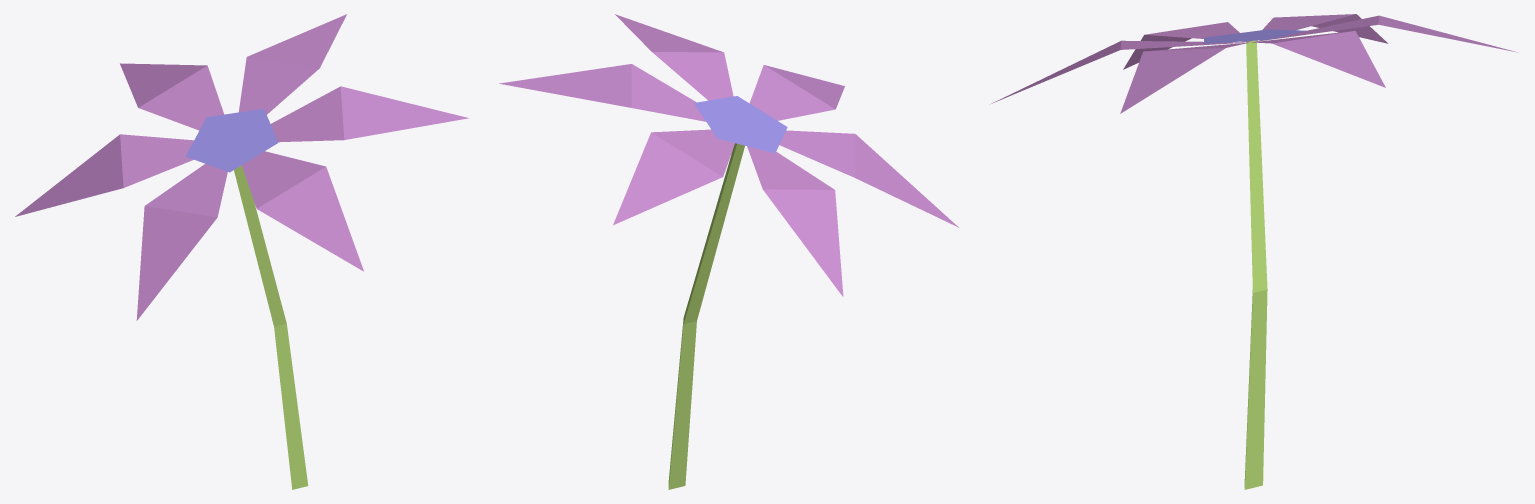
The model's file is Flower_b_OneS_04.fbx.
3 views of the same model, side by side, from view 1: azimuth 30°, elevation 25°; view 2: azimuth 150°, elevation 25°; view 3: azimuth 270°, elevation 25° (orthographic). The views are drawn at different scales.
Parts seen in each view (by area): view 1: Flower_b_OneS_04; view 2: Flower_b_OneS_04; view 3: Flower_b_OneS_04.
Part boxes in pixels (x1=…): Flower_b_OneS_04: x1=15, y1=14, x2=468, y2=489; Flower_b_OneS_04: x1=499, y1=14, x2=958, y2=489; Flower_b_OneS_04: x1=991, y1=14, x2=1517, y2=489.
Bounding box in the file's own units: 32.69 × 37.35 × 39.2.
